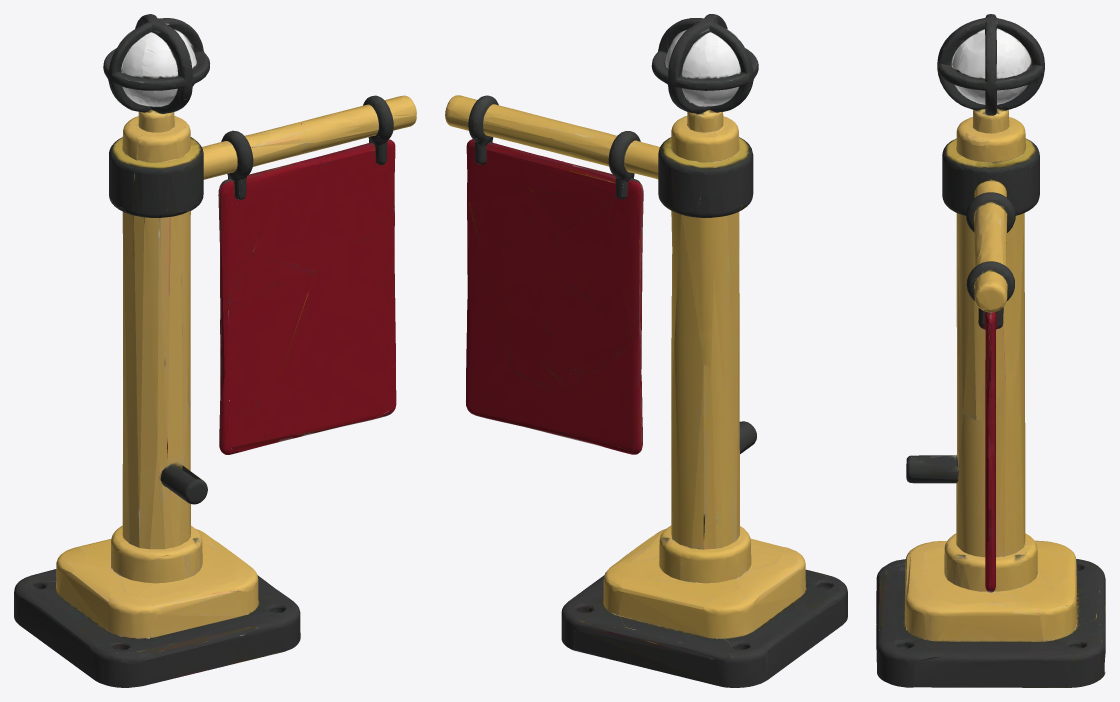
Rendered from flag_v1.glb.
The picture shows the model from 3 angles, left to right: view 1: azimuth 30°, elevation 25°; view 2: azimuth 150°, elevation 25°; view 3: azimuth 270°, elevation 25°; orthographic projection.
Parts seen in each view (by area): view 1: pole_geo, banner_p1, lamp_p2; view 2: pole_geo, banner_p1, lamp_p2; view 3: pole_geo, lamp_p2, banner_p1.
Part boxes in pixels (bbox=[...]): pole_geo: bbox=[14, 95, 416, 687]; banner_p1: bbox=[229, 134, 396, 453]; lamp_p2: bbox=[103, 14, 209, 117]; pole_geo: bbox=[445, 95, 847, 687]; banner_p1: bbox=[466, 135, 633, 453]; lamp_p2: bbox=[651, 14, 758, 116]; pole_geo: bbox=[876, 110, 1105, 687]; lamp_p2: bbox=[937, 14, 1044, 117]; banner_p1: bbox=[969, 227, 1011, 592].
Bounding box in the file's own units: 2.32 × 3.81 × 1.28.
1 material, 1 textured.
